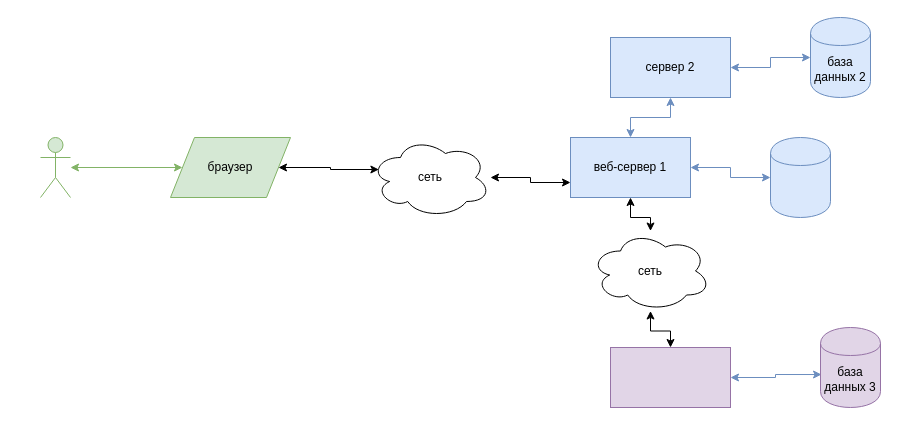
The diagram is 898 pixels wide and 425 high, and some of its shapes have lost their labels. The shapes that lost their labels are listed below. From the top down, each one's centre as x and y in pixels, then its label:
At (55,167): "пользователь".
At (800,177): "база данных 1".
At (670,377): "сервер 3".
